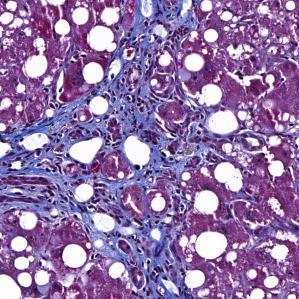fibrosis: (79, 175, 190, 259), (7, 123, 106, 216), (99, 54, 195, 134), (152, 126, 215, 171)
